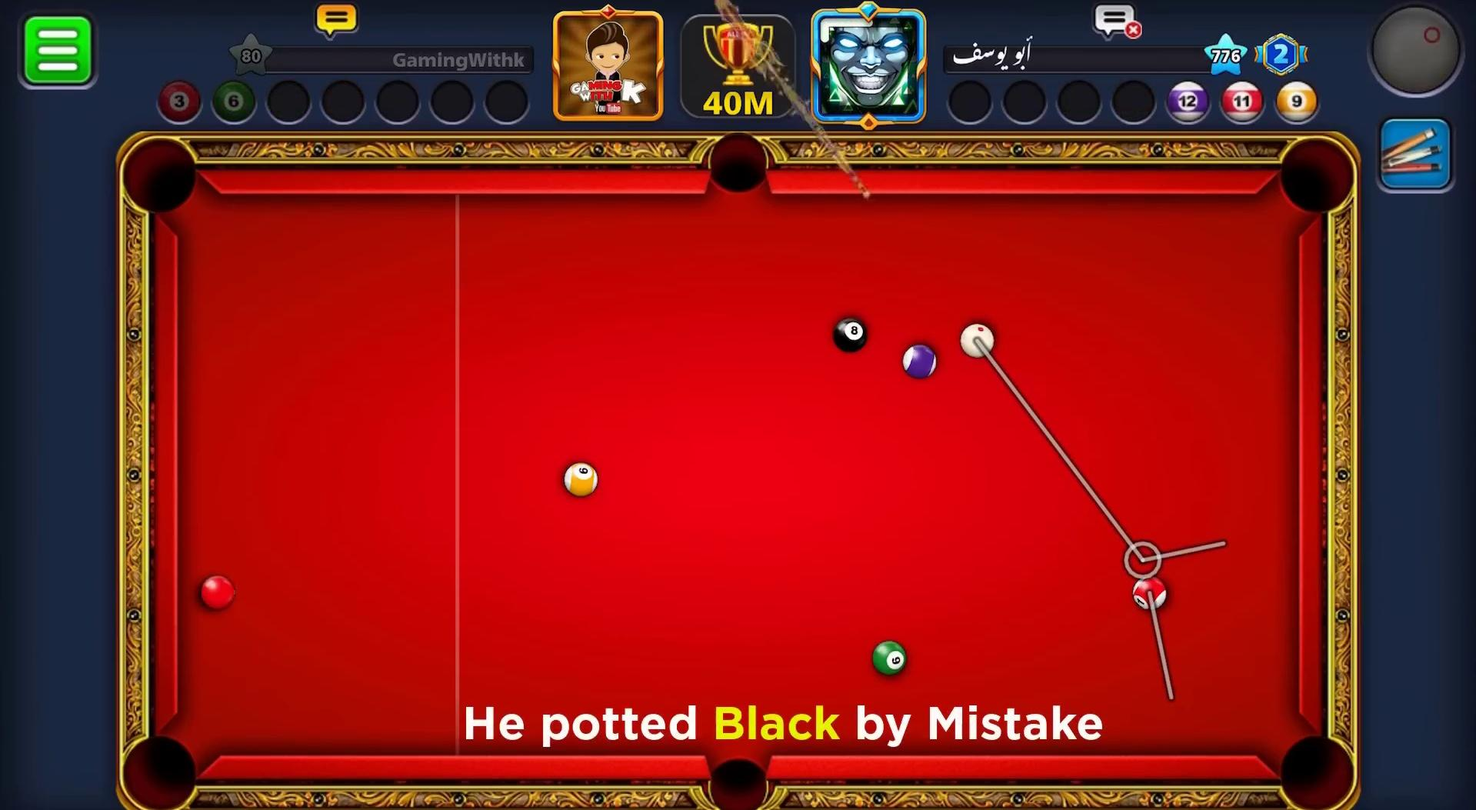Ball: (193, 567, 247, 610), (1129, 572, 1170, 620), (561, 456, 597, 497), (873, 639, 910, 676), (833, 316, 869, 353), (901, 341, 936, 377)
Guideline: (968, 335, 1226, 566), (1146, 592, 1177, 699), (1122, 541, 1164, 579)
Hole: (1272, 132, 1356, 220), (1275, 731, 1352, 810), (124, 135, 202, 212), (126, 730, 202, 805), (702, 748, 771, 810), (708, 131, 768, 191)
Play_Area: (181, 192, 1293, 753)
Spin: (1360, 4, 1462, 99)
White: (959, 316, 998, 356)
